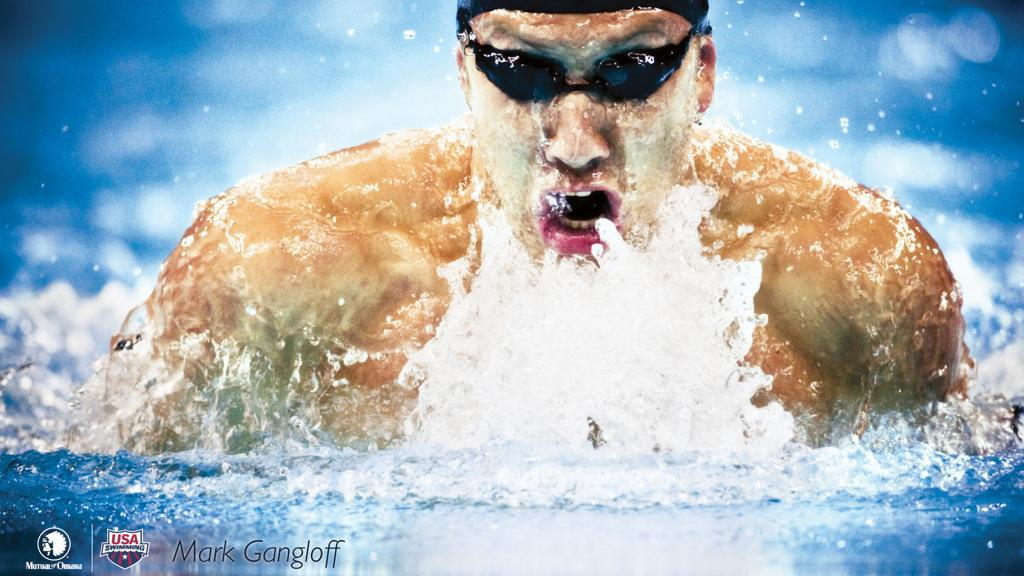face: (473, 17, 701, 279)
